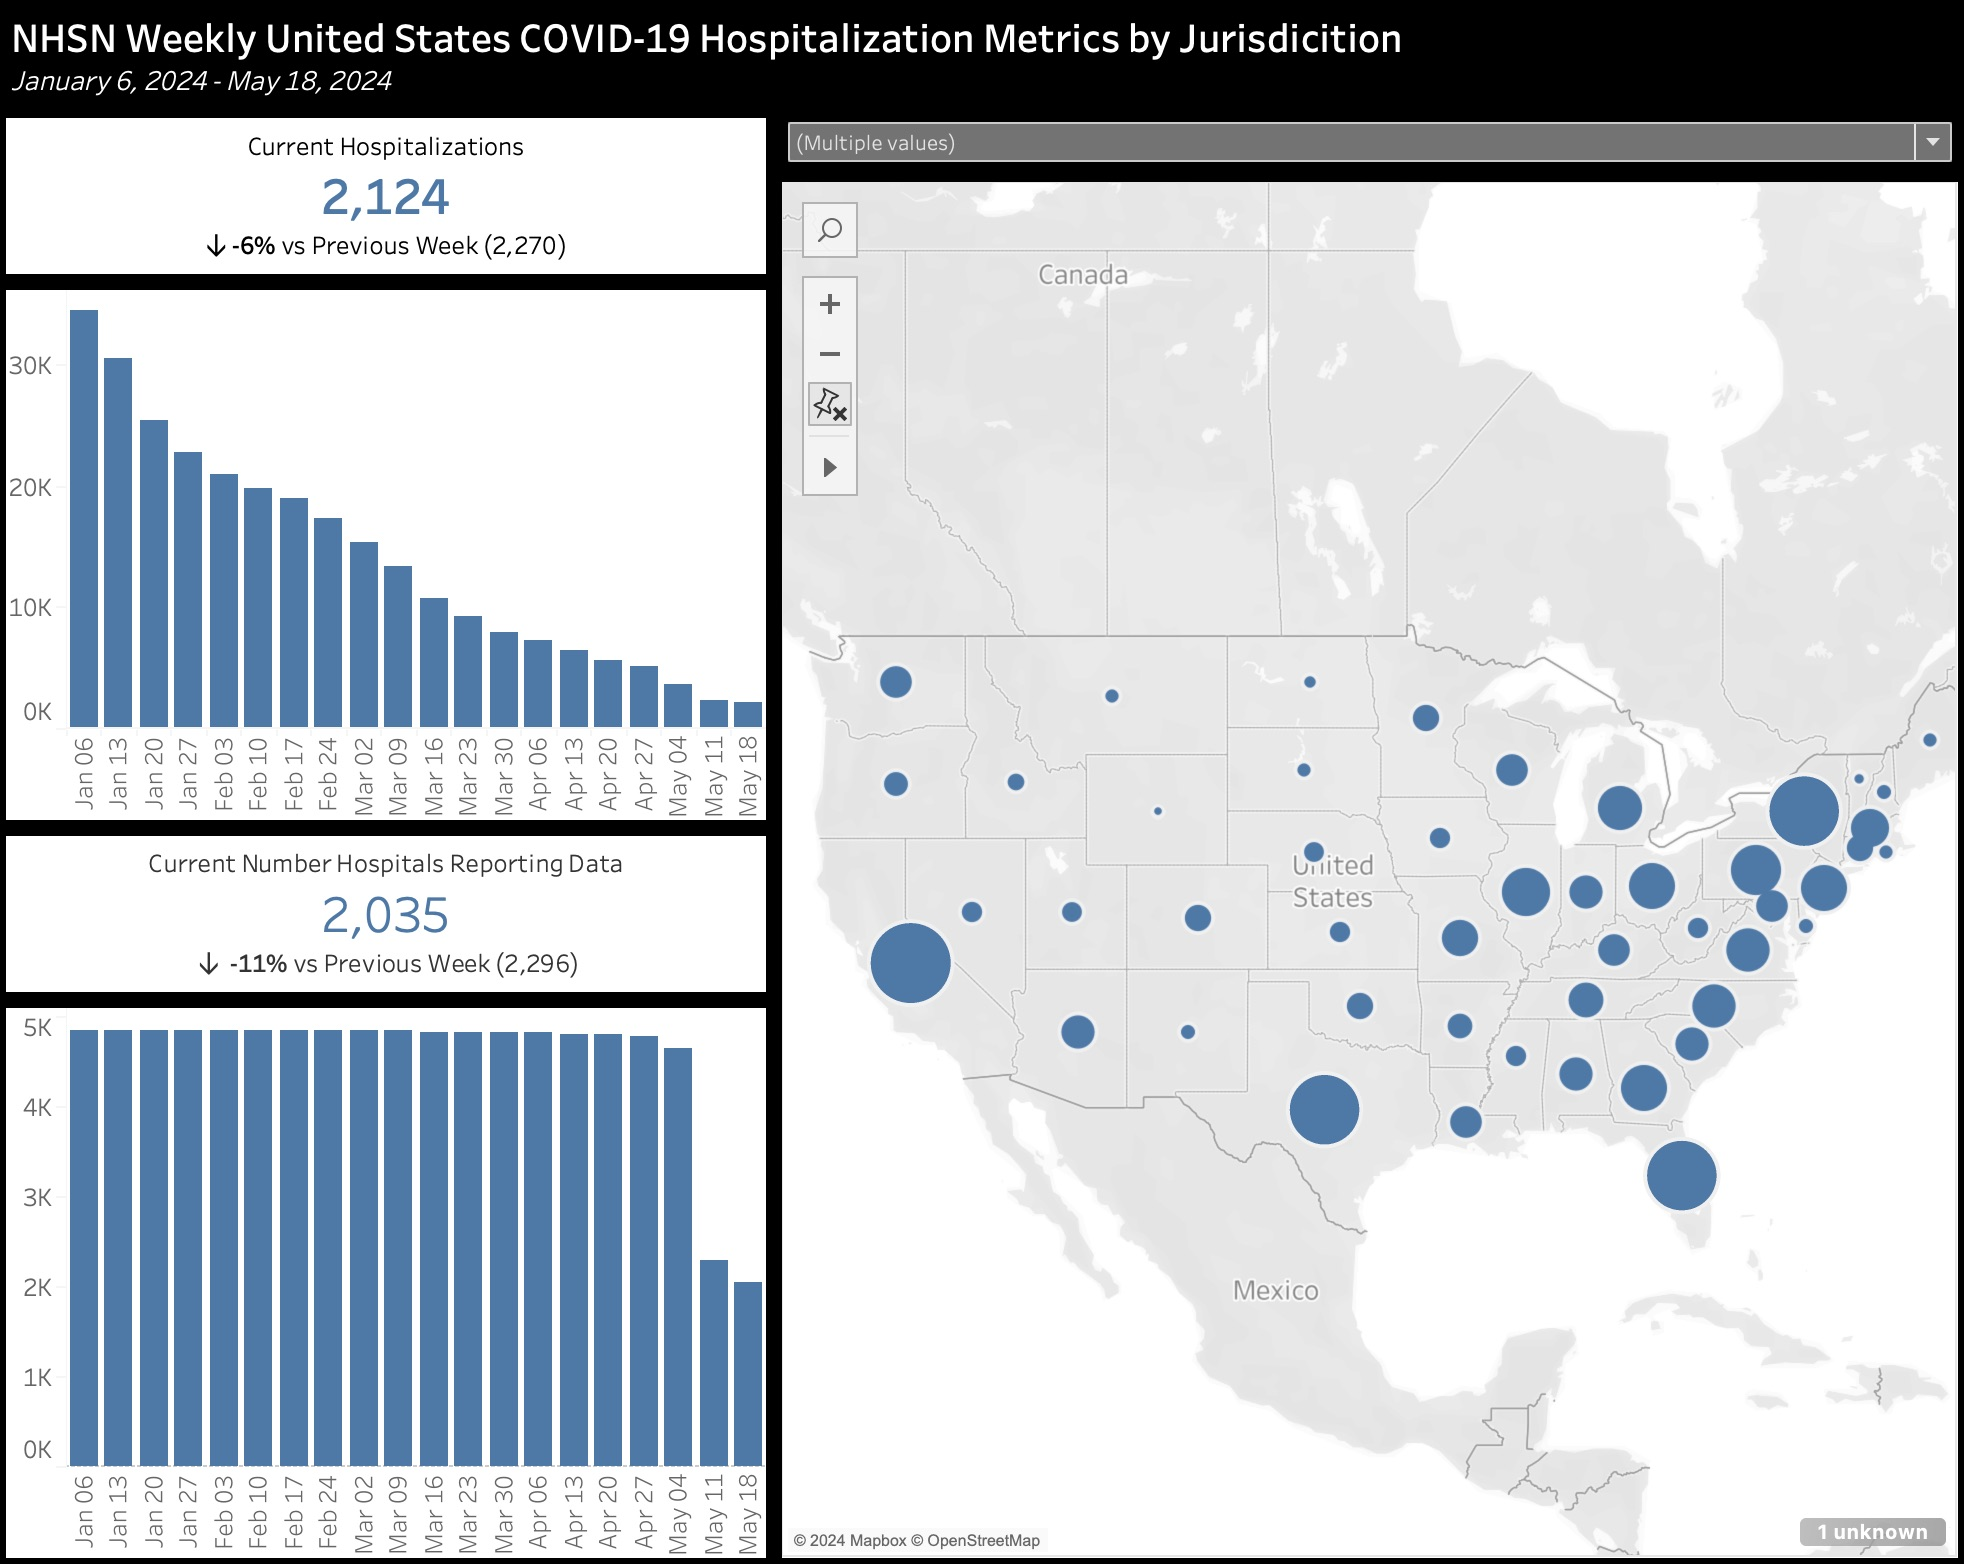

Layout of this report page (visuals, bound fields, positions):
{"tool":"tableau","page":{"name":"Hospitalizations Dashboard","canvas":[1000,800],"ordinal":0},"visuals":[{"type":"text","box":[8,8,984,56]},{"type":"worksheet","title":"All Hosp Sum Tile","mark":"Text","rows":["Calculation_3531385080215990275","week_end_date"],"box":[8,64,388,86]},{"type":"filter","title":"Hosp Reporting","param":"[federated.005m9e410qjg0l15mfo7m14weobx].[none:Jurisdiction (copy)_3531385080200","box":[396,64,596,32]},{"type":"worksheet","title":"National Map","mark":"Automatic","box":[396,96,596,696]},{"type":"worksheet","title":"All Hosp","mark":"Bar","rows":["total_admissions_all_covid_confirmed"],"cols":["week_end_date"],"box":[8,150,388,272.6]},{"type":"worksheet","title":"Hosp Reporting Sum Tile","mark":"Text","rows":["Calculation_3531385080215990275","week_end_date"],"box":[8,422.6,388,86.3]},{"type":"worksheet","title":"Hosp Reporting","mark":"Bar","rows":["num_hospitals_admissions_all_covid_confirmed"],"cols":["week_end_date"],"box":[8,509,388,283]}]}

Visuals, with their boxes in screenshot pixels (x1, y1, x2, y2), scaled from the page's 1000x800 canvas onto the 1964x1564 screenshot:
text: detection(16, 16, 1948, 125)
"All Hosp Sum Tile" worksheet (Text marks): detection(16, 125, 778, 293)
"Hosp Reporting" filter: detection(778, 125, 1948, 188)
"National Map" worksheet: detection(778, 188, 1948, 1548)
"All Hosp" worksheet (Bar marks): detection(16, 293, 778, 826)
"Hosp Reporting Sum Tile" worksheet (Text marks): detection(16, 826, 778, 995)
"Hosp Reporting" worksheet (Bar marks): detection(16, 995, 778, 1548)
